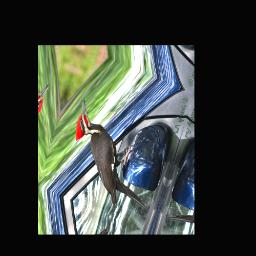Woodpecker: (58, 98, 172, 221)
